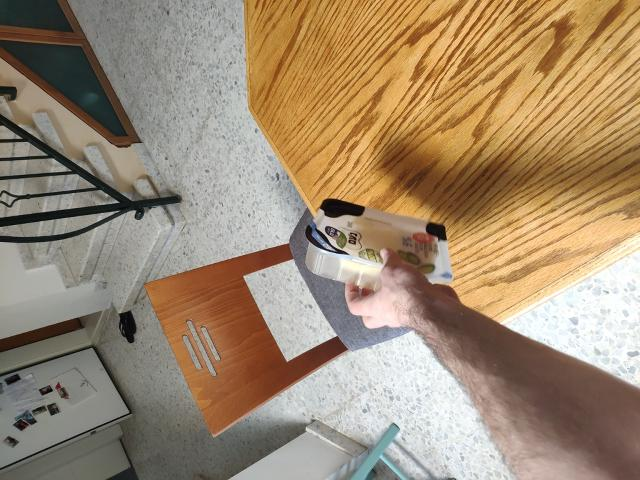cheese: (310, 197, 451, 293)
